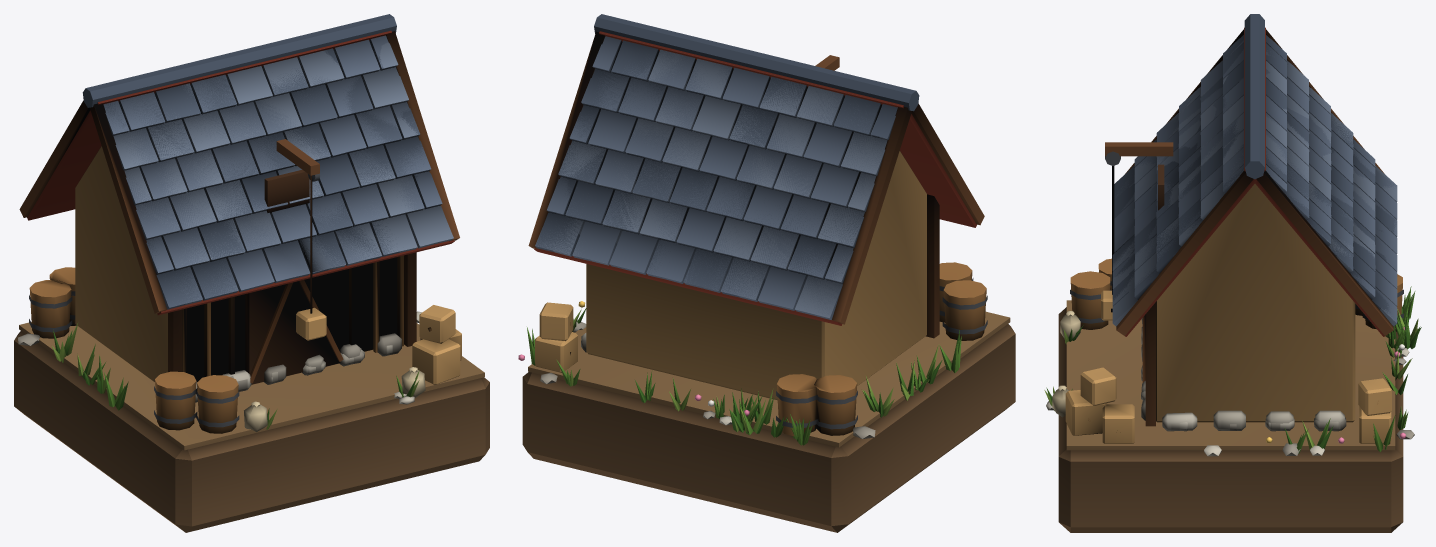
The model's file is warehouse.glb.
3 renders of one model, left to right at view 1: azimuth 30°, elevation 25°; view 2: azimuth 150°, elevation 25°; view 3: azimuth 270°, elevation 25°, orthographic. The views are drawn at different scales.
Visible parts, largest first — view 1: warehouse_l1, warehouse_l2, warehouse_l3; view 2: warehouse_l1, warehouse_l2, warehouse_l3; view 3: warehouse_l1, warehouse_l2, warehouse_l3.
Part boxes in pixels (bbox=[...]): warehouse_l1: bbox=[14, 14, 489, 532]; warehouse_l2: bbox=[59, 35, 442, 431]; warehouse_l3: bbox=[18, 39, 453, 429]; warehouse_l1: bbox=[522, 14, 1015, 532]; warehouse_l2: bbox=[535, 38, 929, 439]; warehouse_l3: bbox=[518, 36, 942, 438]; warehouse_l1: bbox=[1058, 14, 1415, 532]; warehouse_l2: bbox=[1044, 35, 1418, 455]; warehouse_l3: bbox=[1063, 40, 1421, 443].
Size of the model in its own units: 0.9574 by 1.03 by 0.9427.
